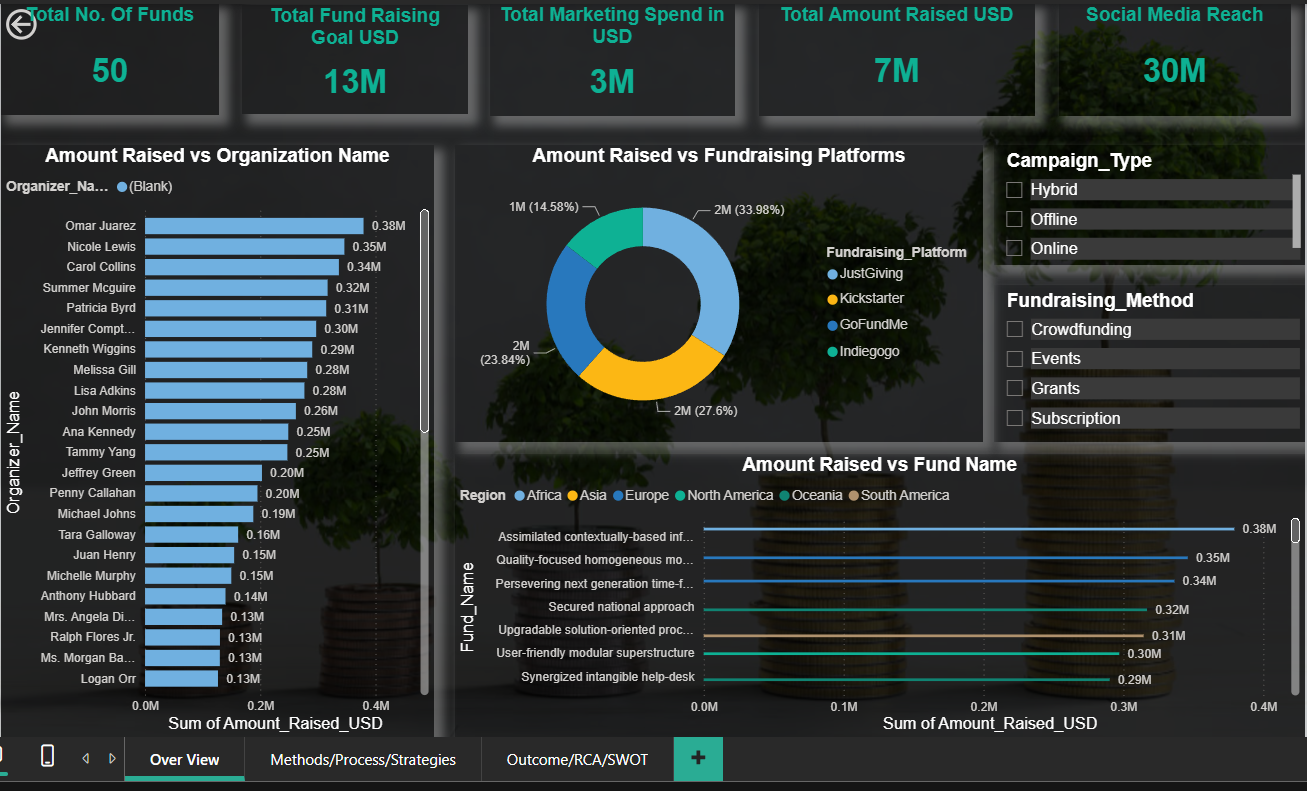

The page's visual inventory and layout, read from the dashboard file:
{"tool":"powerbi","page":{"name":"Over View","canvas":[1280,720],"ordinal":0},"visuals":[{"type":"card","title":"Total Marketing Spend in USD","fields":{"Values":["Sum(FundRaise_CompanyDataset.Marketing_Spend_USD)"]},"box":[479.8,0,240.5,109.2],"z":0},{"type":"card","title":"Total Fund Raising Goal USD","fields":{"Values":["Sum(FundRaise_CompanyDataset.Fundraising_Goal_USD)"]},"box":[236.2,1.2,221.2,107.5],"z":1000},{"type":"actionButton","box":[0,0,100,40],"z":2000},{"type":"card","title":"Total Amount Raised USD","fields":{"Values":["Sum(FundRaise_CompanyDataset.Amount_Raised_USD)"]},"box":[743.6,0,271.2,109.2],"z":3000},{"type":"barChart","title":"Amount Raised vs Organization Name","fields":{"Category":["FundRaise_CompanyDataset.Organizer_Name"],"Y":["Sum(FundRaise_CompanyDataset.Amount_Raised_USD)"],"Series":["FundRaise_CompanyDataset.Organizer_Name (clusters)"]},"box":[0,138.8,425,581.2],"z":4000},{"type":"donutChart","title":"Amount Raised vs Fundraising Platforms","fields":{"Category":["FundRaise_CompanyDataset.Fundraising_Platform"],"Y":["Sum(FundRaise_CompanyDataset.Amount_Raised_USD)"]},"box":[445,138.8,518.8,291.2],"z":5000},{"type":"clusteredBarChart","title":"Amount Raised vs Fund Name","fields":{"Category":["FundRaise_CompanyDataset.Fund_Name"],"Y":["Sum(FundRaise_CompanyDataset.Amount_Raised_USD)"],"Series":["FundRaise_CompanyDataset.Region"]},"box":[445.4,441.7,834.4,278.5],"z":6000},{"type":"slicer","fields":{"Values":["FundRaise_CompanyDataset.Campaign_Type"]},"box":[973.8,138.8,306.2,117.5],"z":7000},{"type":"slicer","fields":{"Values":["FundRaise_CompanyDataset.Fundraising_Method"]},"box":[974.2,276.1,305.5,153.4],"z":8000},{"type":"card","title":"Total No. Of Funds","fields":{"Values":["FundRaise_CompanyDataset.total funds"]},"box":[0,0,213.8,108.8],"z":9000},{"type":"card","title":"Social Media Reach","fields":{"Values":["Sum(FundRaise_CompanyDataset.Social_Media_Reach)"]},"box":[1038,0,228.2,109.2],"z":9001}]}

Visuals, with their boxes on the page's 1280x720 design canvas (x1, y1, x2, y2). These are canvas units, not pixel positions in the 1307x791 screenshot, which may show the page scaled, cropped or inside an application window:
"Total Marketing Spend in USD" card: select_region(480, 0, 720, 109)
"Total Fund Raising Goal USD" card: select_region(236, 1, 457, 109)
actionButton: select_region(0, 0, 100, 40)
"Total Amount Raised USD" card: select_region(744, 0, 1015, 109)
"Amount Raised vs Organization Name" barChart: select_region(0, 139, 425, 720)
"Amount Raised vs Fundraising Platforms" donutChart: select_region(445, 139, 964, 430)
"Amount Raised vs Fund Name" clusteredBarChart: select_region(445, 442, 1280, 720)
slicer - FundRaise_CompanyDataset.Campaign_Type: select_region(974, 139, 1280, 256)
slicer - FundRaise_CompanyDataset.Fundraising_Method: select_region(974, 276, 1280, 430)
"Total No. Of Funds" card: select_region(0, 0, 214, 109)
"Social Media Reach" card: select_region(1038, 0, 1266, 109)
